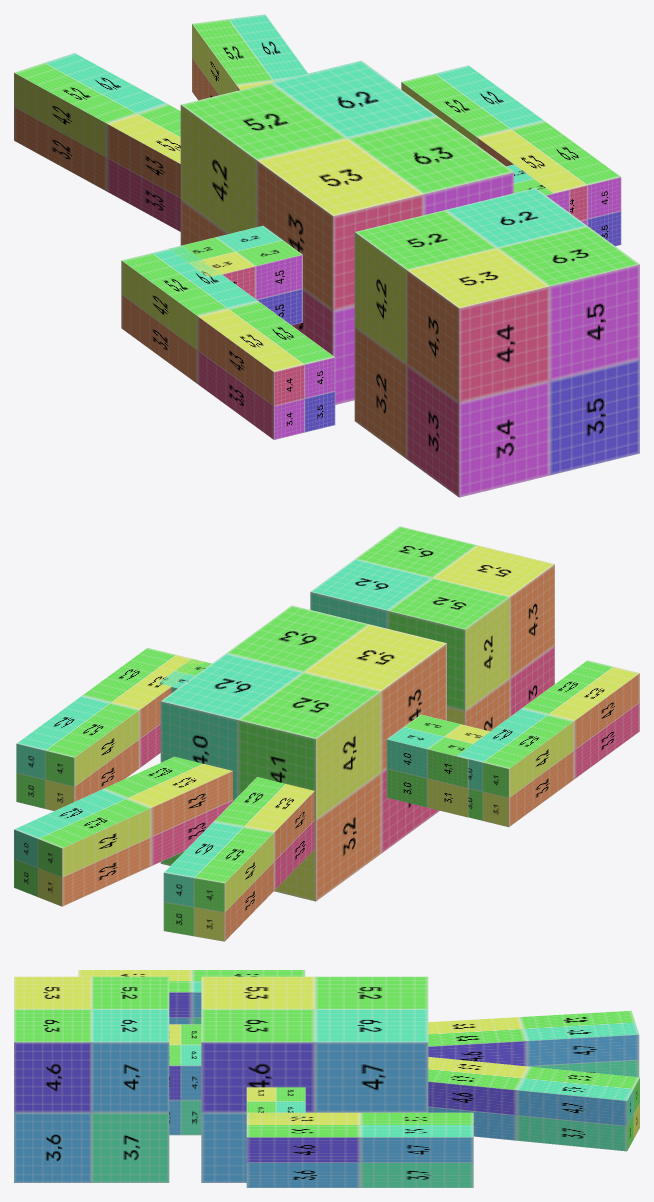
The model's file is downPlayer.obj.
The picture shows the model from 3 angles, top to bottom: view 1: azimuth 30°, elevation 25°; view 2: azimuth 150°, elevation 25°; view 3: azimuth 270°, elevation 25°; orthographic projection. The views are drawn at different scales.
Parts seen in each view (by area): view 1: Cube.003; view 2: Cube.003; view 3: Cube.003.
Part boxes in pixels (bbox=[...]): Cube.003: bbox=[14, 14, 639, 497]; Cube.003: bbox=[14, 526, 639, 941]; Cube.003: bbox=[14, 970, 639, 1187].
Bounding box in the file's own units: 5.09 × 2 × 8.06.
9 materials, 9 textured.
